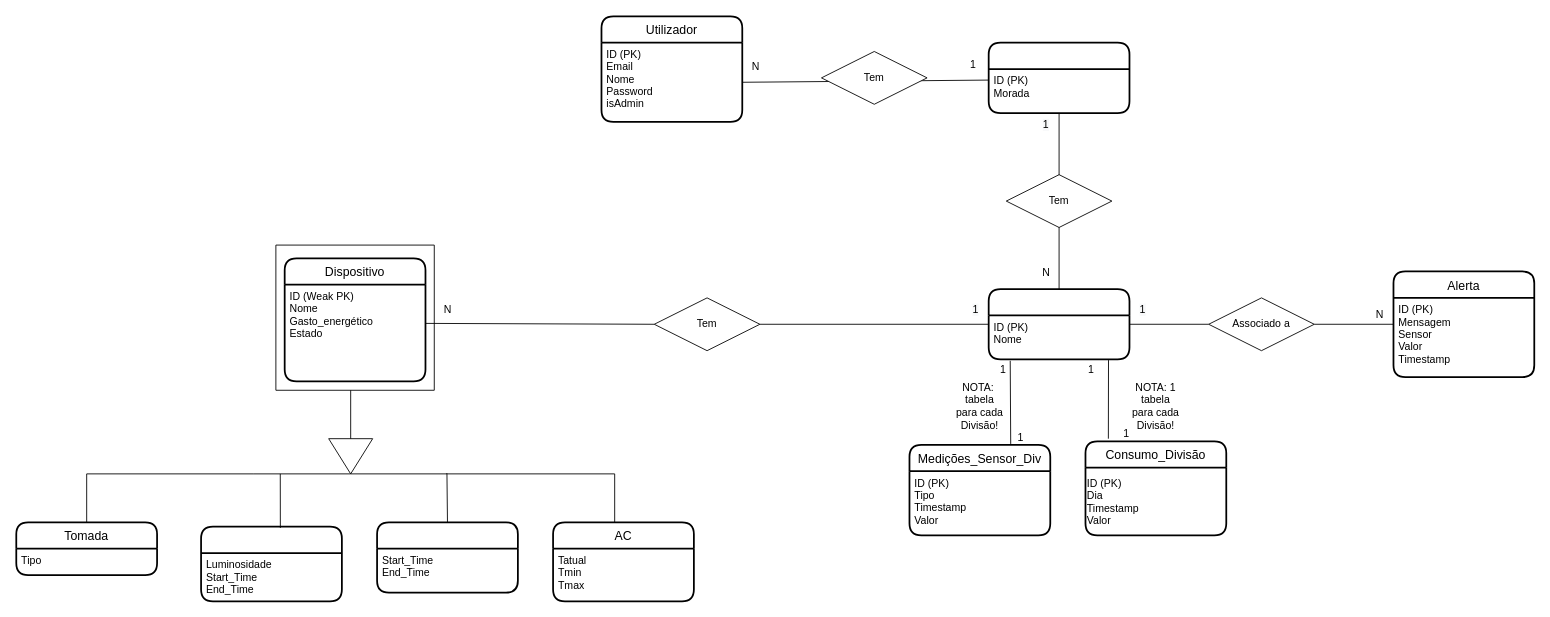
This 1550x617 diagram has some shape labels left out. Each missing label, with the box of its shape:
Casa: (987, 41, 1130, 114)
Divisão: (987, 288, 1130, 360)
IS-A: (328, 438, 373, 474)
Lâmpada: (200, 525, 342, 602)
Regador: (376, 521, 518, 593)
